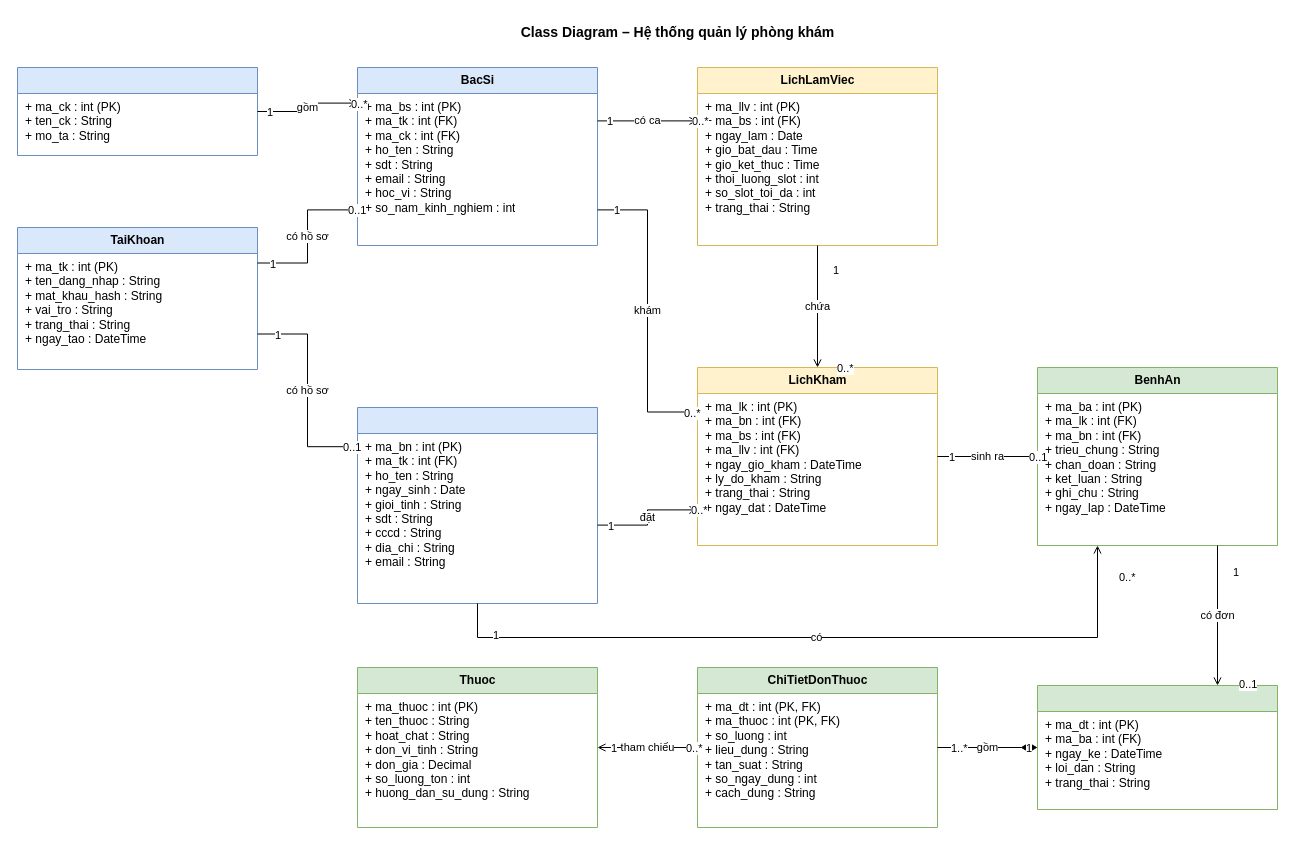
Some shapes in this 1295 by 847 pixel diagram are drawn without their labels. The box of each missing label's shape, as (x1, y1, x2, y2) in pixels:
BenhNhan: (356, 406, 598, 604)
ChuyenKhoa: (16, 66, 258, 156)
DonThuoc: (1036, 684, 1278, 810)
